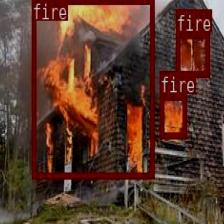fire: (31, 0, 153, 178), (176, 31, 209, 76), (159, 93, 186, 138)
